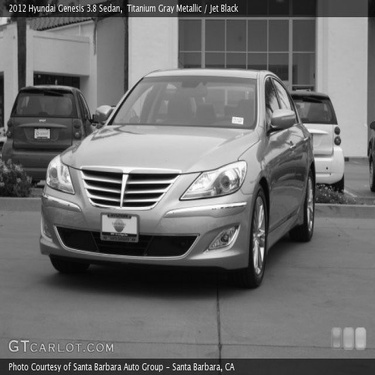car: (13, 55, 326, 306), (252, 78, 359, 195), (1, 76, 96, 185)
